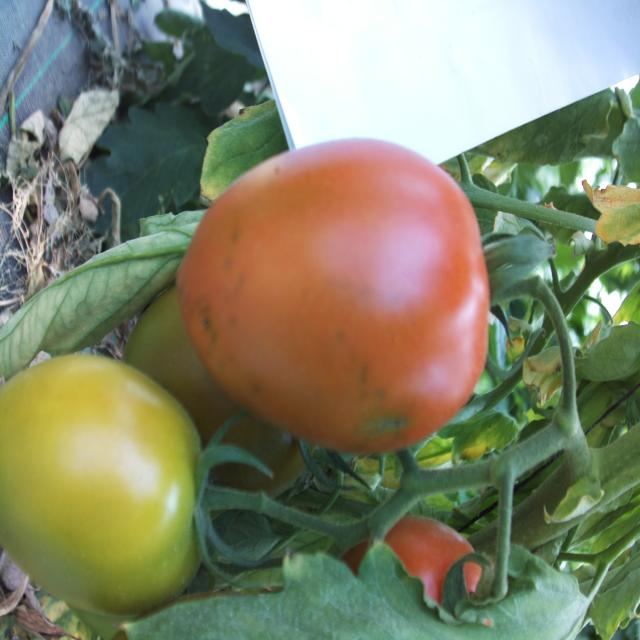kirmizi: (161, 143, 519, 482)
